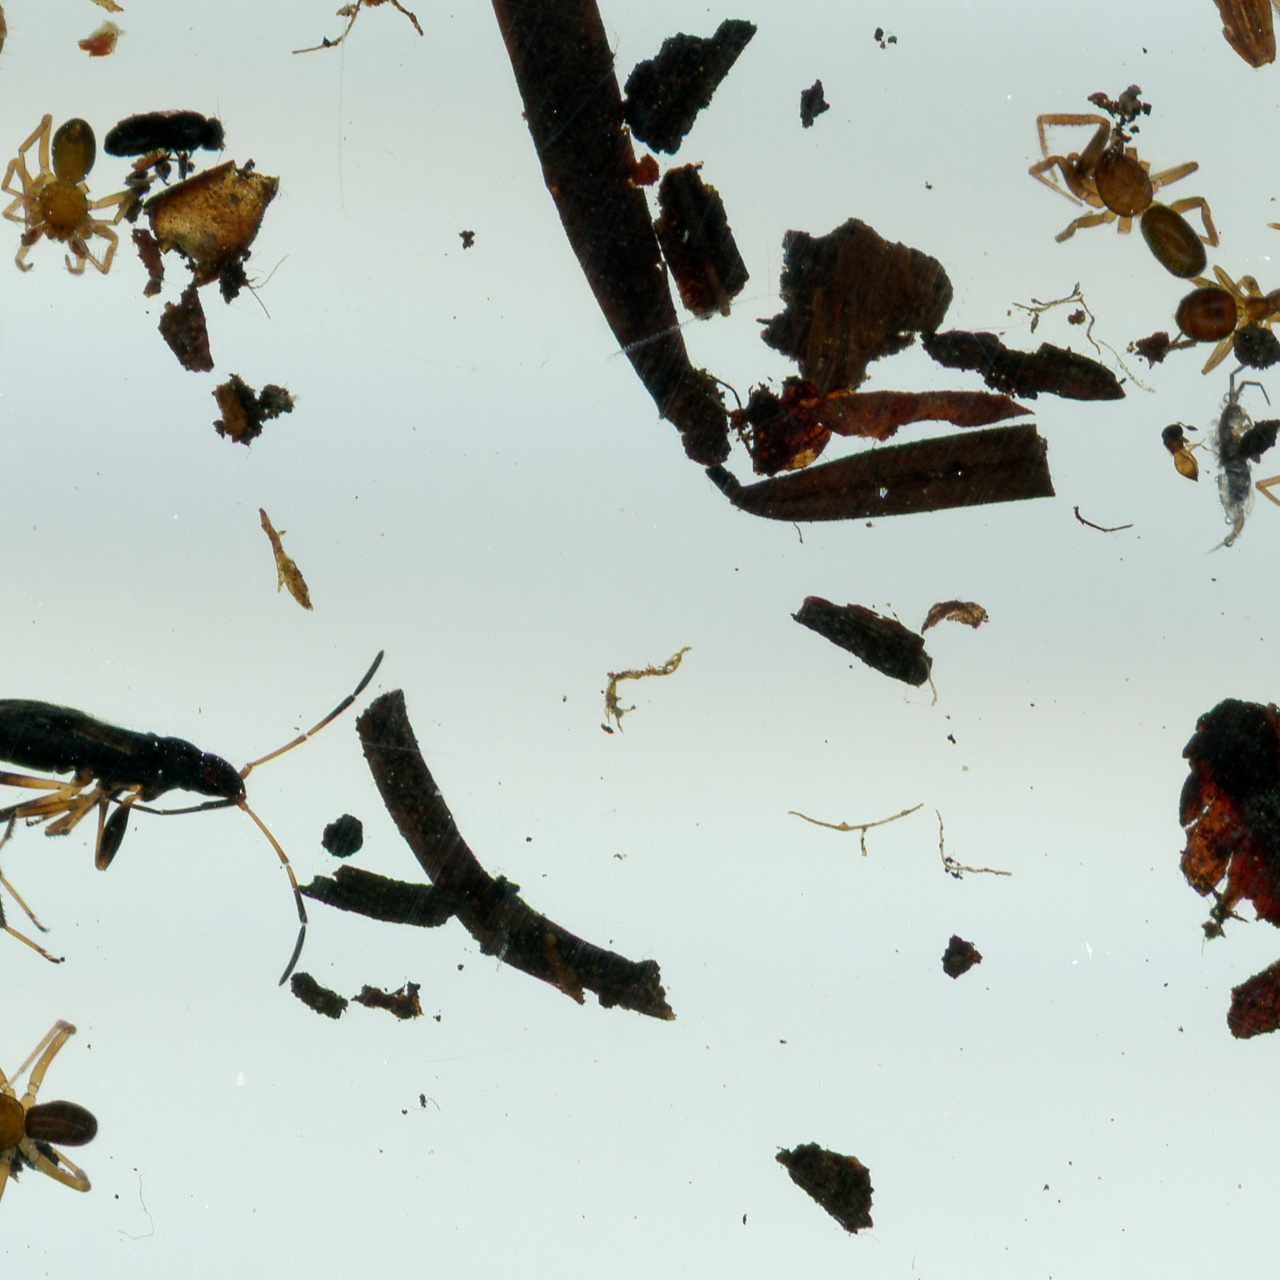arthropod: (0, 642, 389, 982), (1028, 101, 1217, 278), (0, 111, 132, 280), (0, 1016, 98, 1212), (1172, 219, 1280, 388), (1212, 359, 1269, 554), (103, 109, 233, 169), (1162, 418, 1210, 486)
